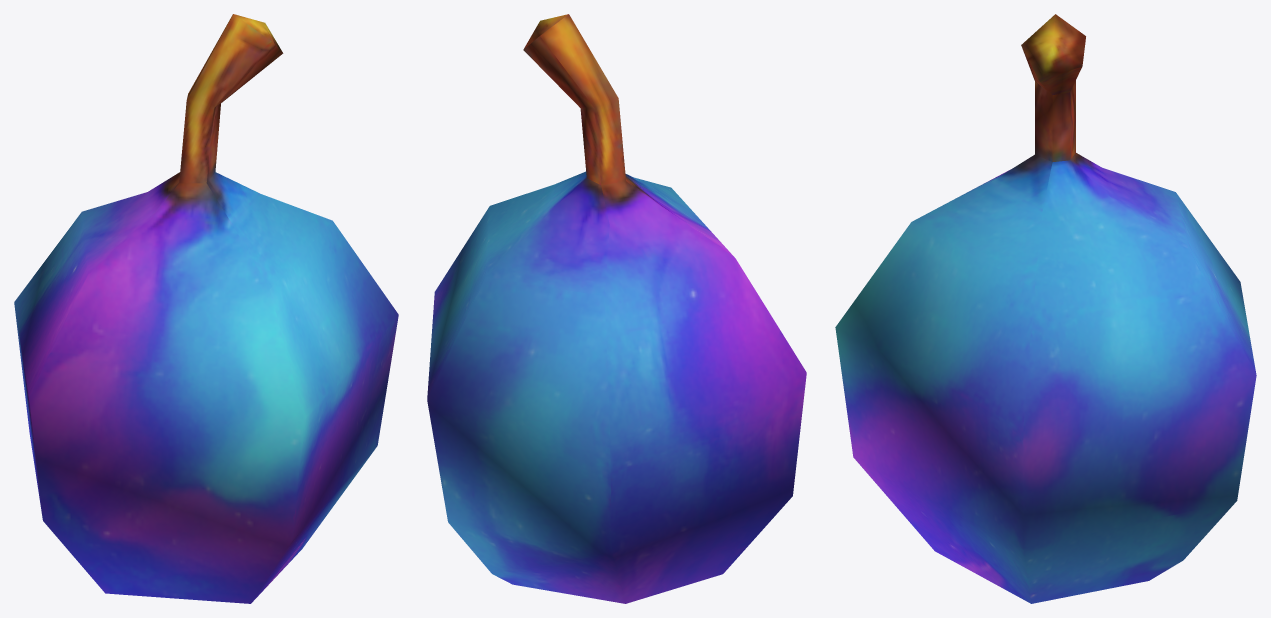
File: Fruit04.glb
3 views of the same model, side by side, from view 1: azimuth 30°, elevation 25°; view 2: azimuth 150°, elevation 25°; view 3: azimuth 270°, elevation 25° (orthographic). The views are drawn at different scales.
Parts seen in each view (by area): view 1: Fruittobake4; view 2: Fruittobake4; view 3: Fruittobake4.
Boxes of the visible parts, box(x1,y1,x2,y2) form: Fruittobake4: box(14, 14, 398, 603); Fruittobake4: box(427, 14, 806, 603); Fruittobake4: box(835, 14, 1256, 603).
Size of the model in its own units: 0.2968 by 0.4291 by 0.2813.
1 material, 1 textured.
